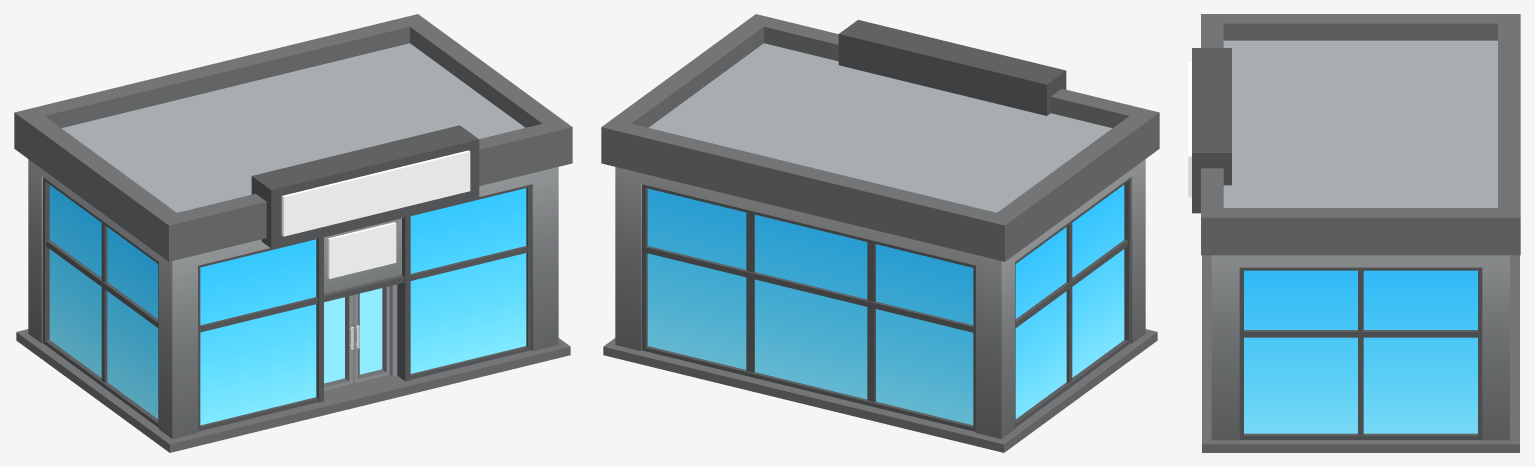
The model's file is Building_Supermarket_10.glb.
3 views of the same model, side by side, from view 1: azimuth 30°, elevation 25°; view 2: azimuth 150°, elevation 25°; view 3: azimuth 270°, elevation 25° (orthographic). The views are drawn at different scales.
Parts seen in each view (by area): view 1: Building_Supermarket_10; view 2: Building_Supermarket_10; view 3: Building_Supermarket_10.
Boxes of the visible parts, x1,y1,x2,y2 form: Building_Supermarket_10: (14,14,572,452); Building_Supermarket_10: (601,14,1159,452); Building_Supermarket_10: (1188,14,1520,452).
Bounding box in the file's own units: 9.93 × 5.71 × 6.85.
Materials: 1 (1 with a texture image).
